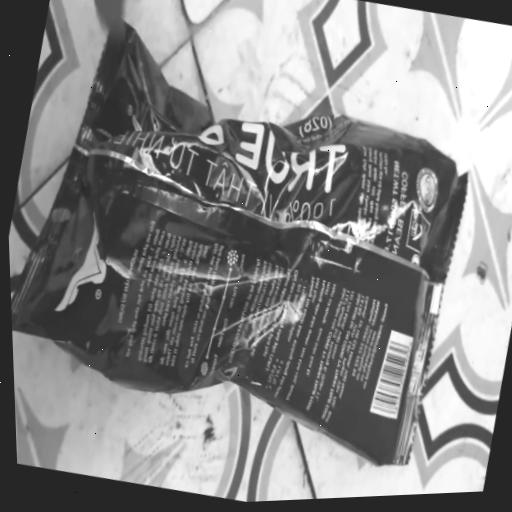cafe_hat: (11, 25, 465, 465)
